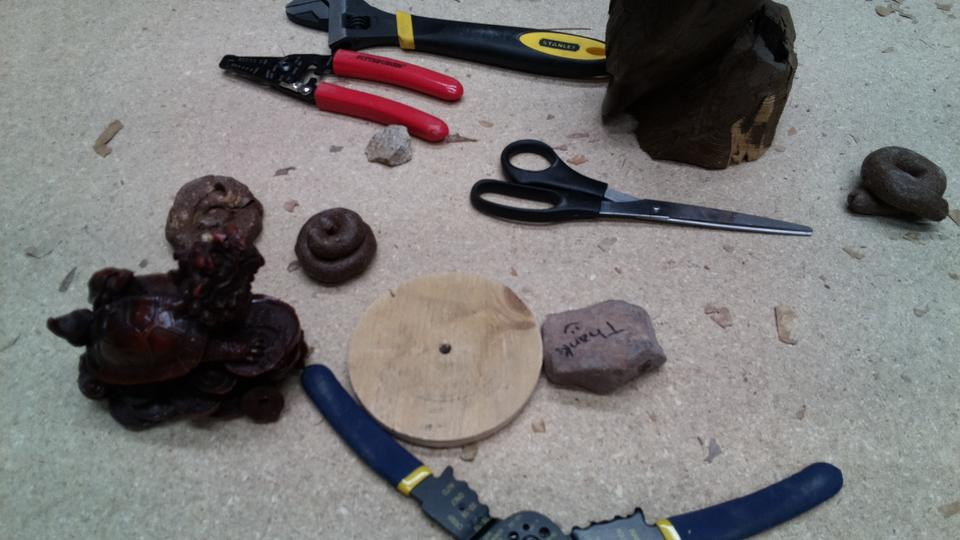poop: (163, 171, 267, 265), (841, 142, 952, 227), (293, 203, 382, 291)
